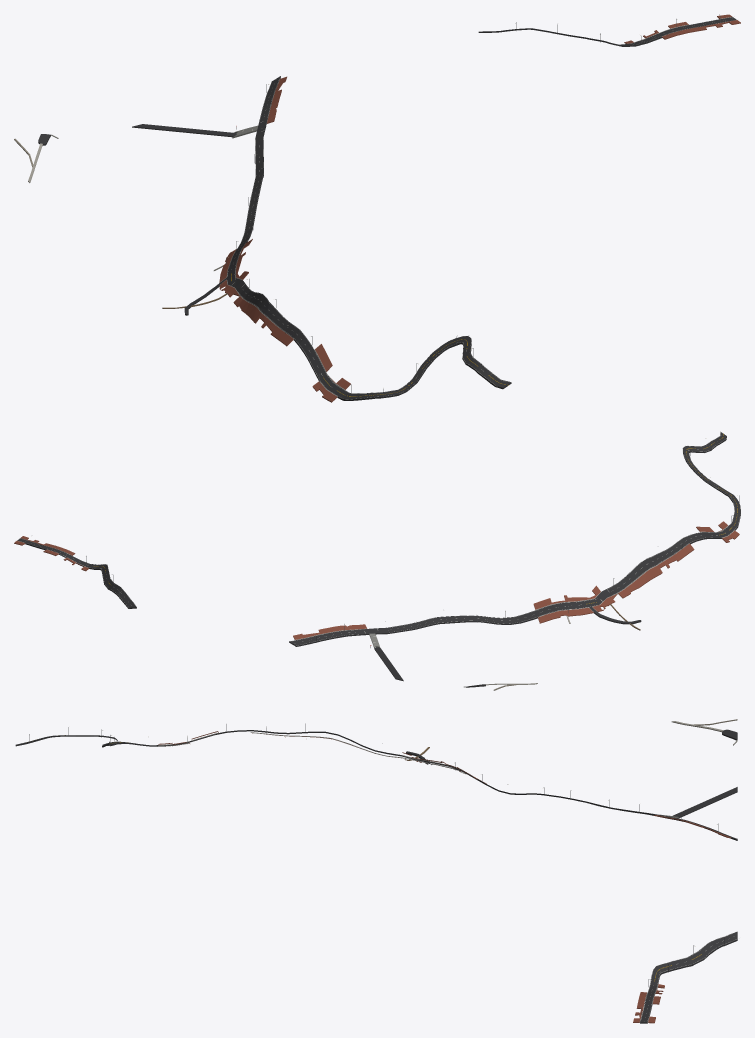
The picture shows the model from 3 angles, top to bottom: view 1: azimuth 30°, elevation 25°; view 2: azimuth 150°, elevation 25°; view 3: azimuth 270°, elevation 25°; orthographic projection. The views are drawn at different scales.
Size of the model in its own units: 590 by 63.37 by 587.
